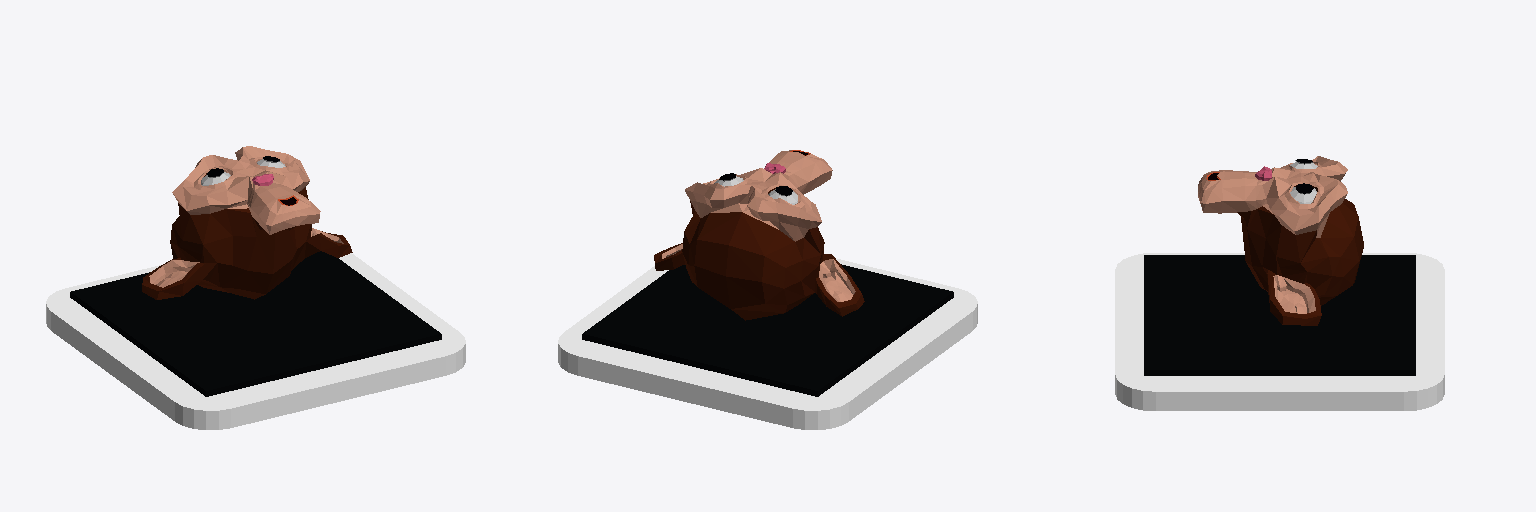
File: TestModel.obj
The picture shows the model from 3 angles: view 1: azimuth 30°, elevation 25°; view 2: azimuth 150°, elevation 25°; view 3: azimuth 270°, elevation 25°; orthographic projection.
Parts seen in each view (by area): view 1: Cube.001_Cube.002, Suzanne, Cube_Cube.001; view 2: Cube.001_Cube.002, Suzanne, Cube_Cube.001; view 3: Cube.001_Cube.002, Cube_Cube.001, Suzanne.
Part boxes in pixels (x1,y1,x2,y2): Cube.001_Cube.002: (70,251,441,396); Suzanne: (142,146,352,299); Cube_Cube.001: (46,253,465,429); Cube.001_Cube.002: (582,264,953,396); Suzanne: (654,150,864,320); Cube_Cube.001: (558,259,977,429); Cube.001_Cube.002: (1144,255,1415,375); Cube_Cube.001: (1115,253,1444,410); Suzanne: (1198,156,1363,325).
Size of the model in its own units: 0.08 by 0.046 by 0.08.